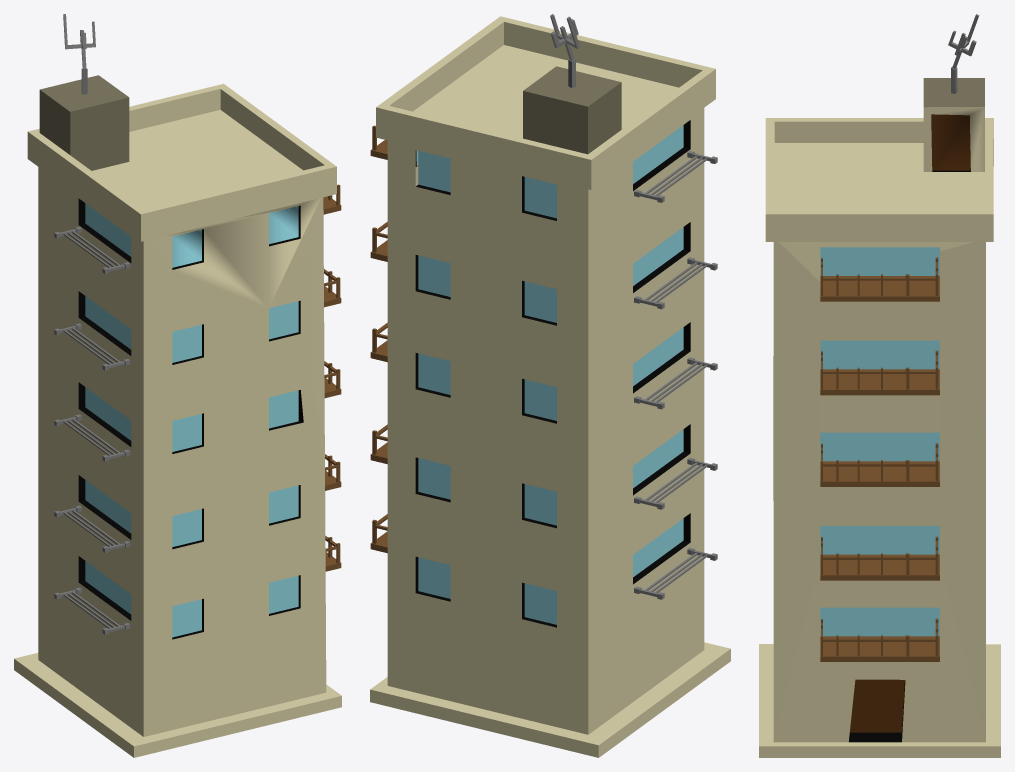
3 views of the same model, side by side, from view 1: azimuth 30°, elevation 25°; view 2: azimuth 150°, elevation 25°; view 3: azimuth 270°, elevation 25° (orthographic). The views are drawn at different scales.
Visible parts, largest first — view 1: Circle.001; view 2: Circle.001; view 3: Circle.001.
Part boxes in pixels (left/top/right/bottom): Circle.001: left=14, top=14, right=341, bottom=757; Circle.001: left=370, top=14, right=730, bottom=757; Circle.001: left=759, top=14, right=1000, bottom=757.
Size of the model in its own units: 518 by 1318 by 438.
